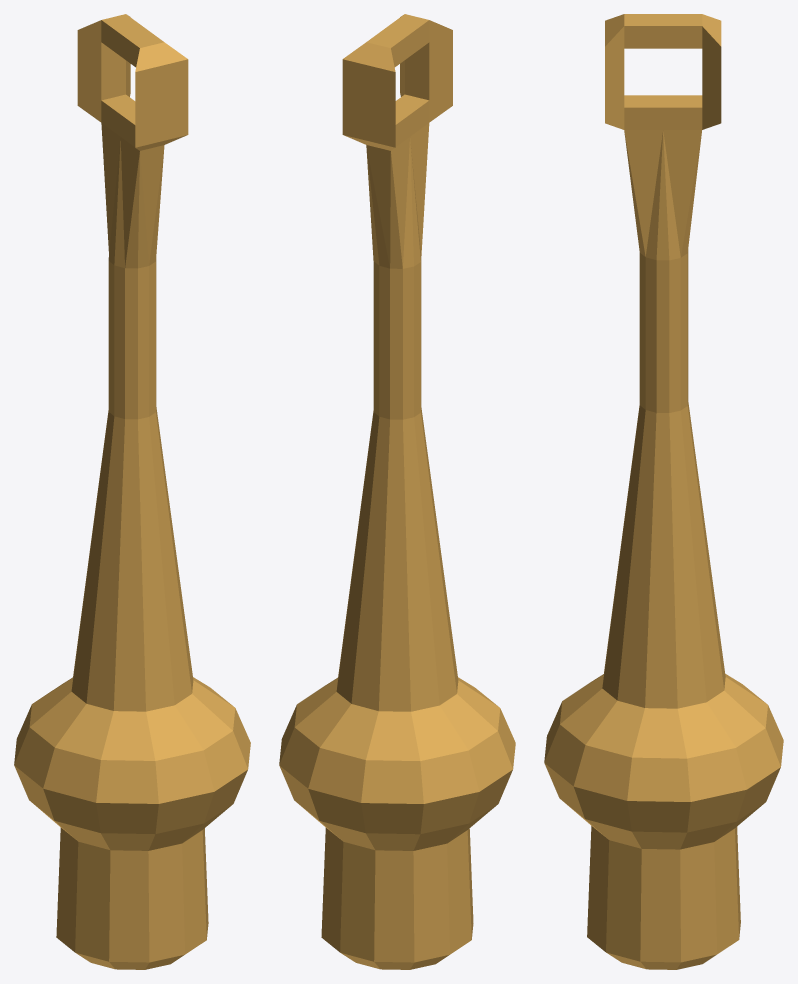
File: S.BellClapper.fbx
3 views of the same model, side by side, from view 1: azimuth 30°, elevation 25°; view 2: azimuth 150°, elevation 25°; view 3: azimuth 270°, elevation 25° (orthographic).
Visible parts, largest first — view 1: S. Bell.001; view 2: S. Bell.001; view 3: S. Bell.001.
Boxes of the visible parts, <box> form: S. Bell.001: <box>14,14,250,969</box>; S. Bell.001: <box>279,14,515,969</box>; S. Bell.001: <box>544,14,783,969</box>.
Bounding box in the file's own units: 70.26 × 300 × 70.26.
